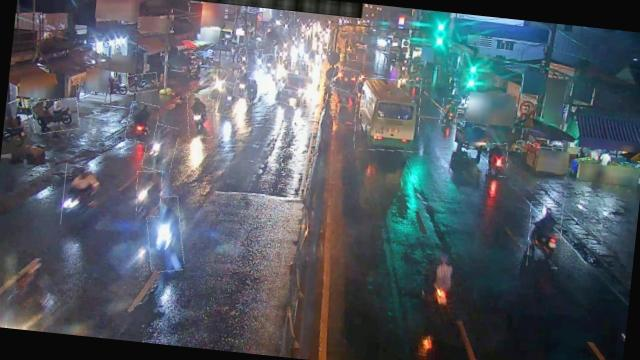Bike: (141, 195, 188, 274), (60, 162, 101, 228), (525, 201, 564, 269), (29, 96, 81, 137), (142, 123, 178, 173), (185, 91, 218, 139), (133, 170, 164, 218), (125, 102, 159, 144), (218, 82, 242, 118), (486, 143, 508, 178), (126, 72, 160, 94), (439, 98, 458, 128), (210, 69, 226, 101), (233, 69, 250, 98), (245, 78, 261, 106), (254, 49, 266, 74), (239, 47, 250, 68), (264, 54, 274, 74)
Bus: (351, 75, 423, 154)
Car: (276, 71, 309, 108), (330, 66, 359, 92)
